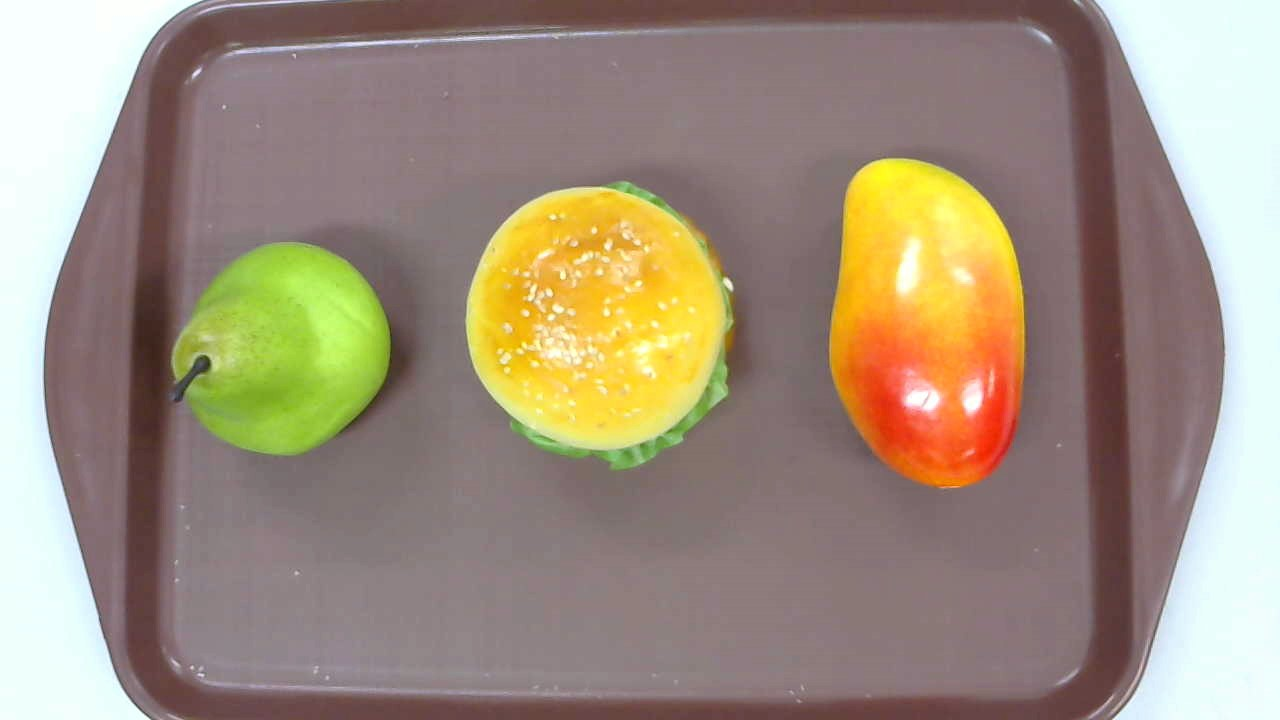green pear: (170, 241, 391, 458)
hamburger: (465, 181, 737, 469)
red mango: (829, 159, 1024, 490)
